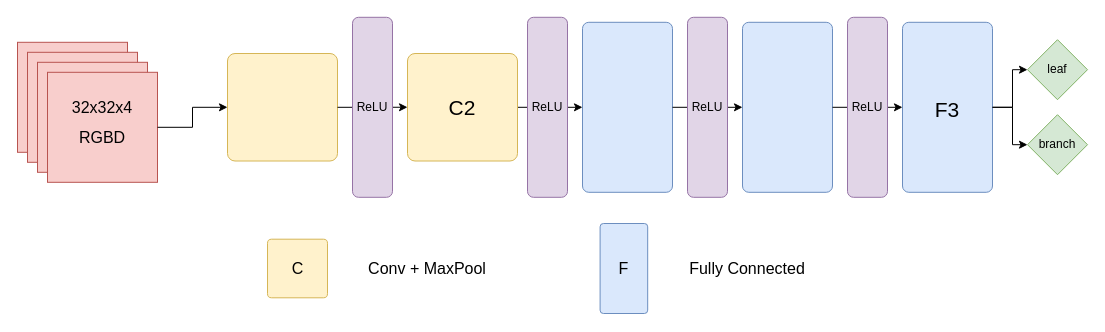
Image size: 1105x332. Some labels were removed from this diagram. The centre of each missing label's shape, as x and y in pixels:
C1: the point at 282,106
F1: the point at 627,106
F2: the point at 787,106
